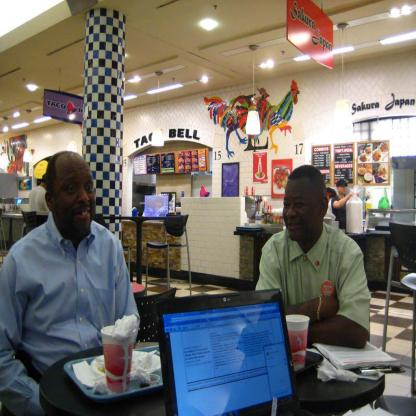board: (156, 288, 314, 416)
